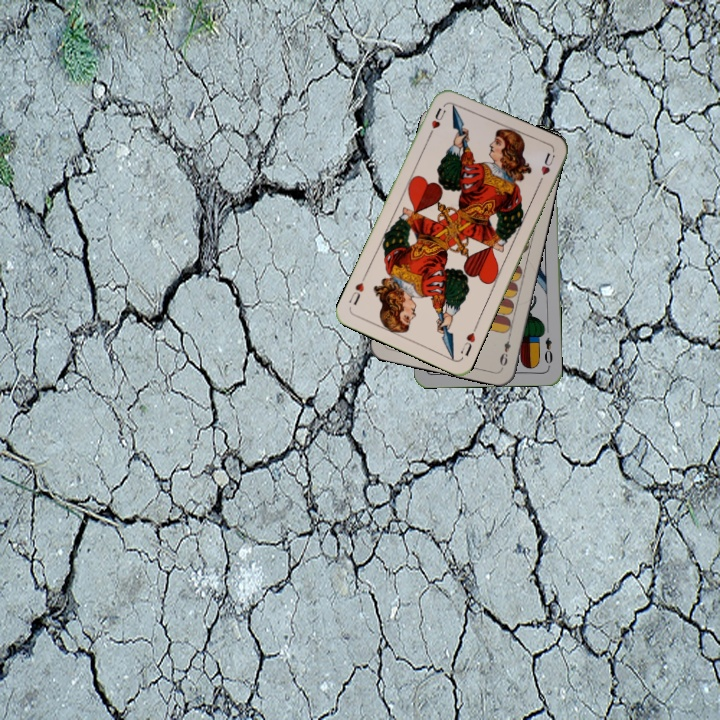E9: (495, 330, 513, 368)
EO: (540, 333, 555, 366)
HU: (456, 322, 480, 359), (427, 104, 449, 131)
